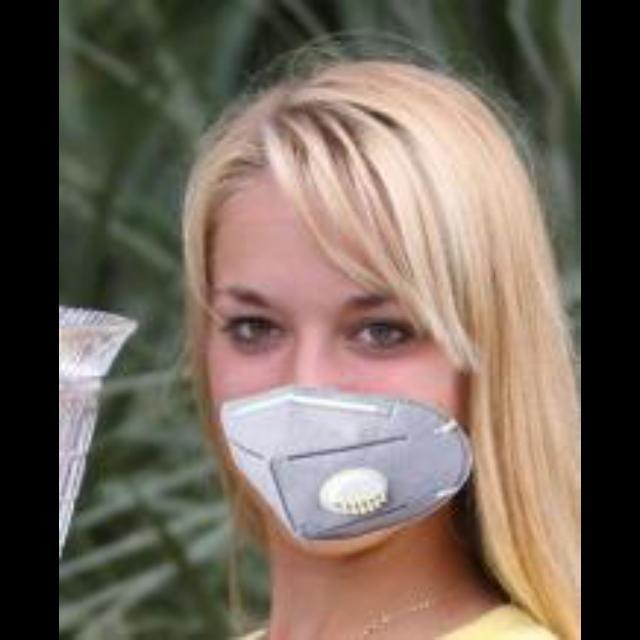suspicion: (205, 94, 478, 554)
